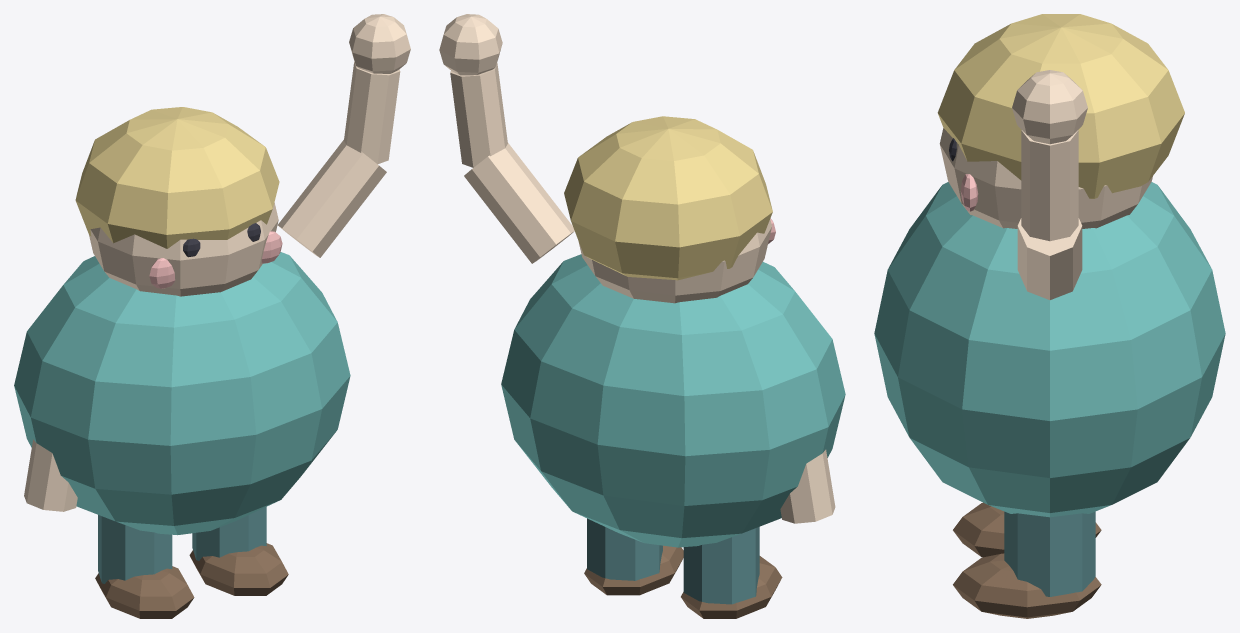
The model's file is nico_export.glb.
3 renders of one model, left to right at view 1: azimuth 30°, elevation 25°; view 2: azimuth 150°, elevation 25°; view 3: azimuth 270°, elevation 25°, orthographic. The views are drawn at different scales.
Parts seen in each view (by area): view 1: Nico_Torso, Nico_Hair, Nico_Head, Nico_UpperArm_R, Nico_Forearm_R, Nico_Leg_-1, Nico_Foot_-1, Nico_Foot_1, Nico_Hand_R, Nico_Arm_L, Nico_Leg_1, Nico_Cheek_-1; view 2: Nico_Torso, Nico_Hair, Nico_UpperArm_R, Nico_Leg_-1, Nico_Head, Nico_Forearm_R, Nico_Leg_1, Nico_Hand_R, Nico_Arm_L, Nico_Foot_-1, Nico_Foot_1; view 3: Nico_Torso, Nico_Hair, Nico_Leg_1, Nico_Head, Nico_Forearm_R, Nico_Foot_1, Nico_Hand_R, Nico_UpperArm_R, Nico_Foot_-1, Nico_Cheek_1.
Boxes of the visible parts, box(x1,y1,x2,y2) form: Nico_Torso: box(14, 252, 350, 535); Nico_Hair: box(75, 107, 279, 248); Nico_Head: box(89, 202, 278, 296); Nico_UpperArm_R: box(277, 140, 386, 257); Nico_Forearm_R: box(344, 62, 400, 164); Nico_Leg_-1: box(98, 515, 172, 583); Nico_Foot_-1: box(95, 566, 194, 618); Nico_Foot_1: box(189, 543, 288, 595); Nico_Hand_R: box(349, 14, 410, 73); Nico_Arm_L: box(24, 439, 77, 511); Nico_Leg_1: box(192, 507, 266, 560); Nico_Cheek_-1: box(149, 258, 175, 288); Nico_Torso: box(501, 254, 845, 547); Nico_Hair: box(564, 116, 772, 280); Nico_UpperArm_R: box(464, 143, 574, 263); Nico_Leg_-1: box(683, 527, 759, 604); Nico_Head: box(578, 219, 771, 303); Nico_Forearm_R: box(450, 63, 507, 167); Nico_Leg_1: box(587, 518, 662, 580); Nico_Hand_R: box(439, 14, 502, 75); Nico_Arm_L: box(780, 449, 835, 523); Nico_Foot_-1: box(681, 556, 782, 618); Nico_Foot_1: box(584, 545, 683, 595); Nico_Torso: box(874, 182, 1225, 517); Nico_Hair: box(937, 14, 1184, 198); Nico_Leg_1: box(1004, 511, 1095, 596); Nico_Head: box(939, 128, 1152, 228); Nico_Forearm_R: box(1021, 130, 1078, 241); Nico_Foot_1: box(953, 553, 1101, 618); Nico_Hand_R: box(1012, 70, 1087, 144); Nico_UpperArm_R: box(1017, 218, 1082, 299); Nico_Foot_-1: box(953, 502, 1101, 557); Nico_Cheek_1: box(960, 174, 978, 211).
Size of the model in its own units: 1.37 by 1.81 by 0.924.
